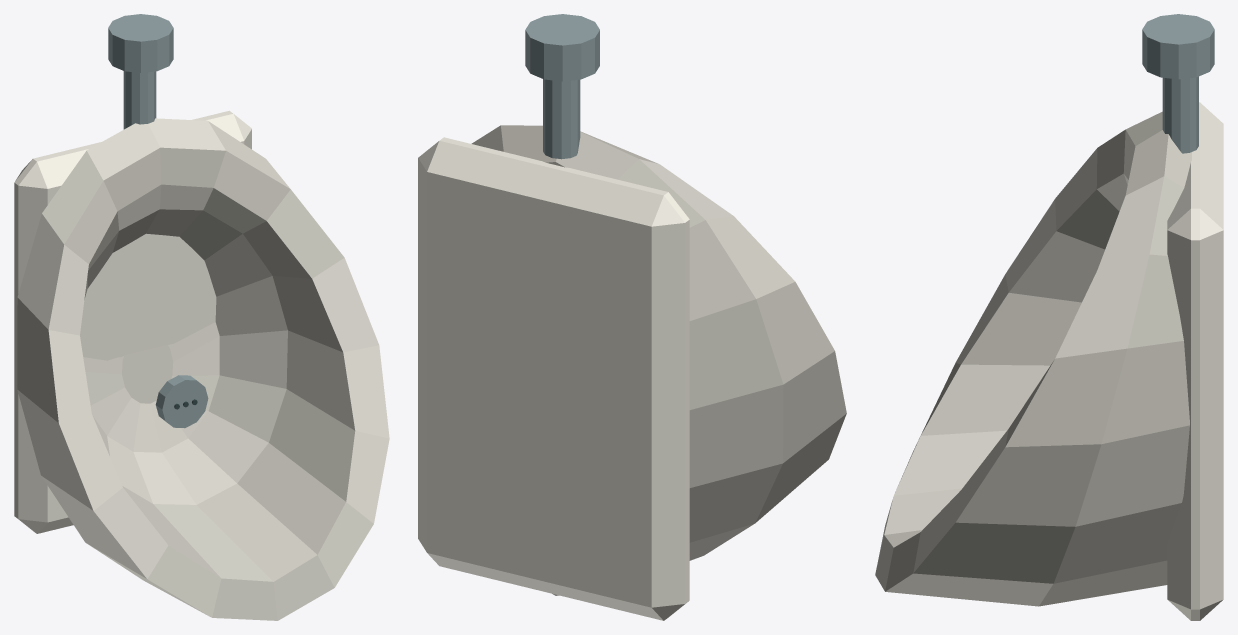
File: Facilities-Urinal.fbx
3 renders of one model, left to right at view 1: azimuth 30°, elevation 25°; view 2: azimuth 150°, elevation 25°; view 3: azimuth 270°, elevation 25°, orthographic. The views are drawn at different scales.
Visible parts, largest first — view 1: Ceramic | Rim and Recess, Wall Backplate, Flush Valve, Drain, Flush Pipe; view 2: Wall Backplate, Ceramic | Rim and Recess, Flush Valve, Flush Pipe; view 3: Ceramic | Rim and Recess, Wall Backplate, Flush Valve, Flush Pipe.
Boxes of the visible parts, x1,y1,x2,y2 form: Ceramic | Rim and Recess: [17, 118, 389, 620]; Wall Backplate: [14, 110, 251, 533]; Flush Valve: [108, 14, 173, 72]; Drain: [155, 375, 208, 428]; Flush Pipe: [123, 71, 156, 129]; Wall Backplate: [418, 137, 689, 620]; Ceramic | Rim and Recess: [471, 125, 846, 595]; Flush Valve: [525, 14, 599, 81]; Flush Pipe: [543, 79, 580, 159]; Ceramic | Rim and Recess: [875, 111, 1191, 606]; Wall Backplate: [1167, 102, 1223, 620]; Flush Valve: [1142, 14, 1214, 79]; Flush Pipe: [1162, 76, 1198, 153].
Size of the model in its own units: 0.362 by 0.548 by 0.308.
